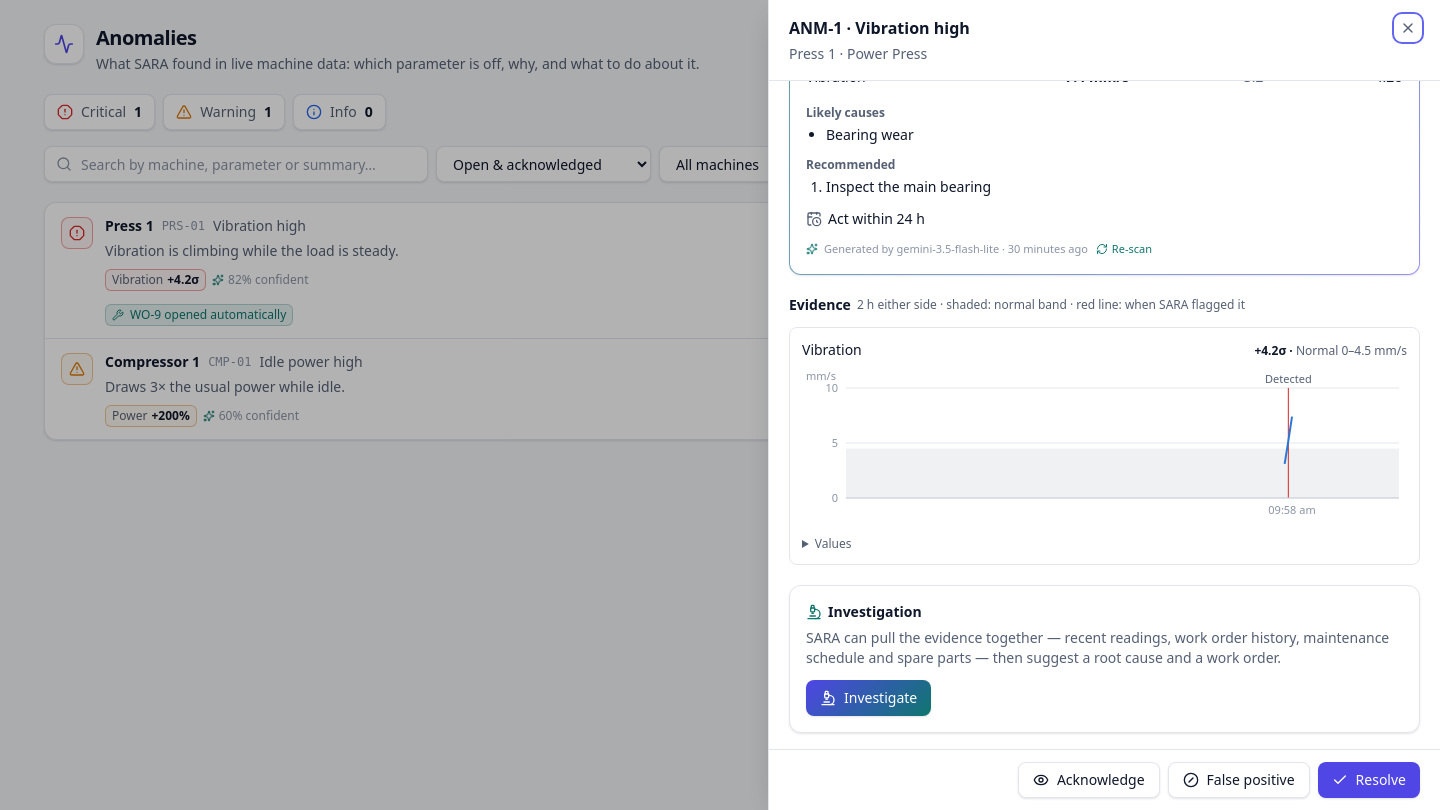
Scenario: Anomalies page › opens the detail sheet: summary, evidence, investigation, work order and state actions
(page scrolled)
Check: the heading "ANM-1 · Vibration high" is shown, box x1=789 y1=16 x2=970 y2=40
Check: the list item "Bearing wear" is shown, box x1=826 y1=125 x2=914 y2=144
Click the button "Investigate" at point(869, 698), box x1=806 y1=680 x2=931 y2=716
(page scrolled)
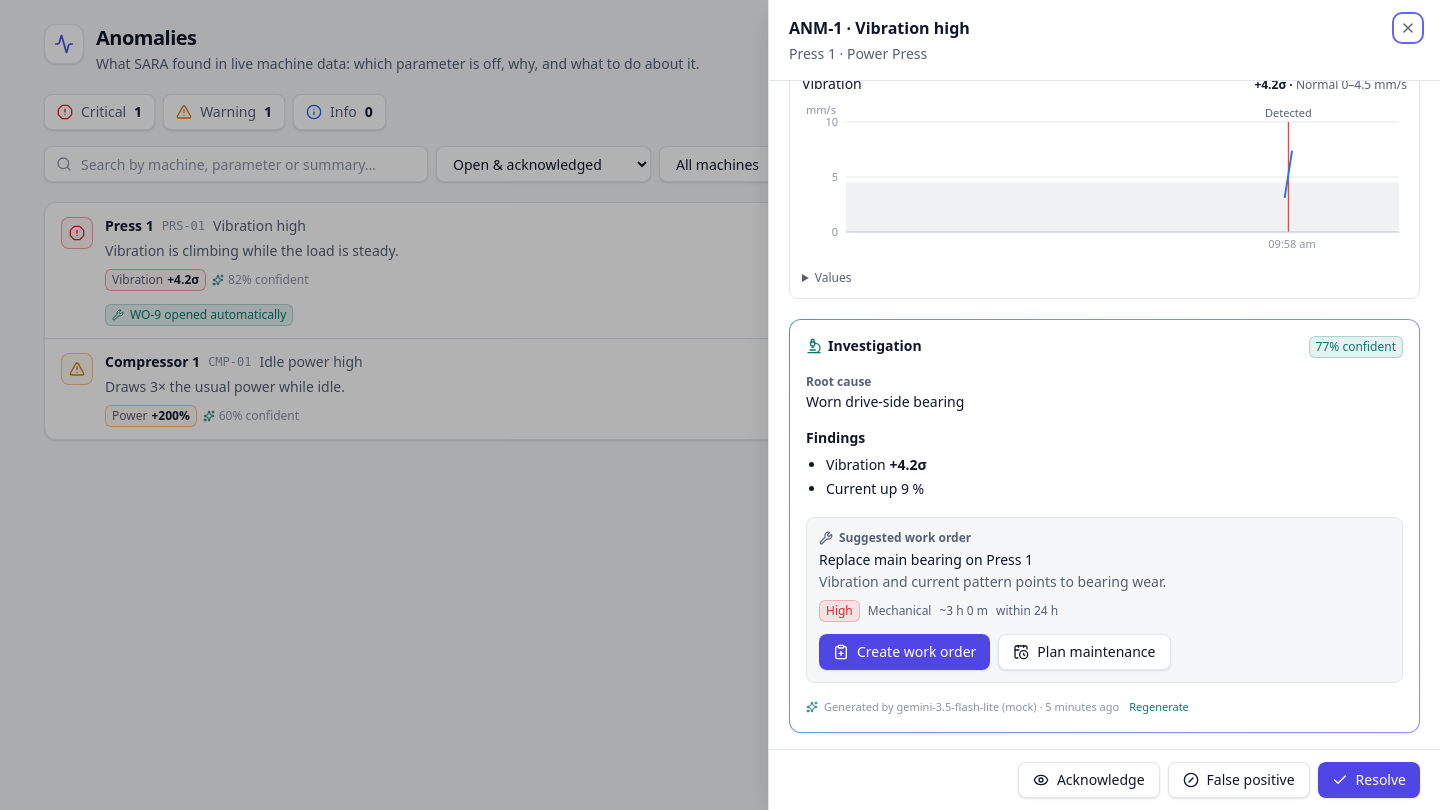
Check: the text "Worn drive-side bearing" is shown, box x1=806 y1=392 x2=964 y2=410
Check: the heading "Findings" is shown, box x1=806 y1=428 x2=865 y2=446
Check: the text "Generated by gemini-3.5-flash-lite (mock) · 5 minutes ago" is shown, box x1=824 y1=699 x2=1119 y2=716
Click the button "Create work order" at point(905, 652), box x1=819 y1=634 x2=990 y2=670
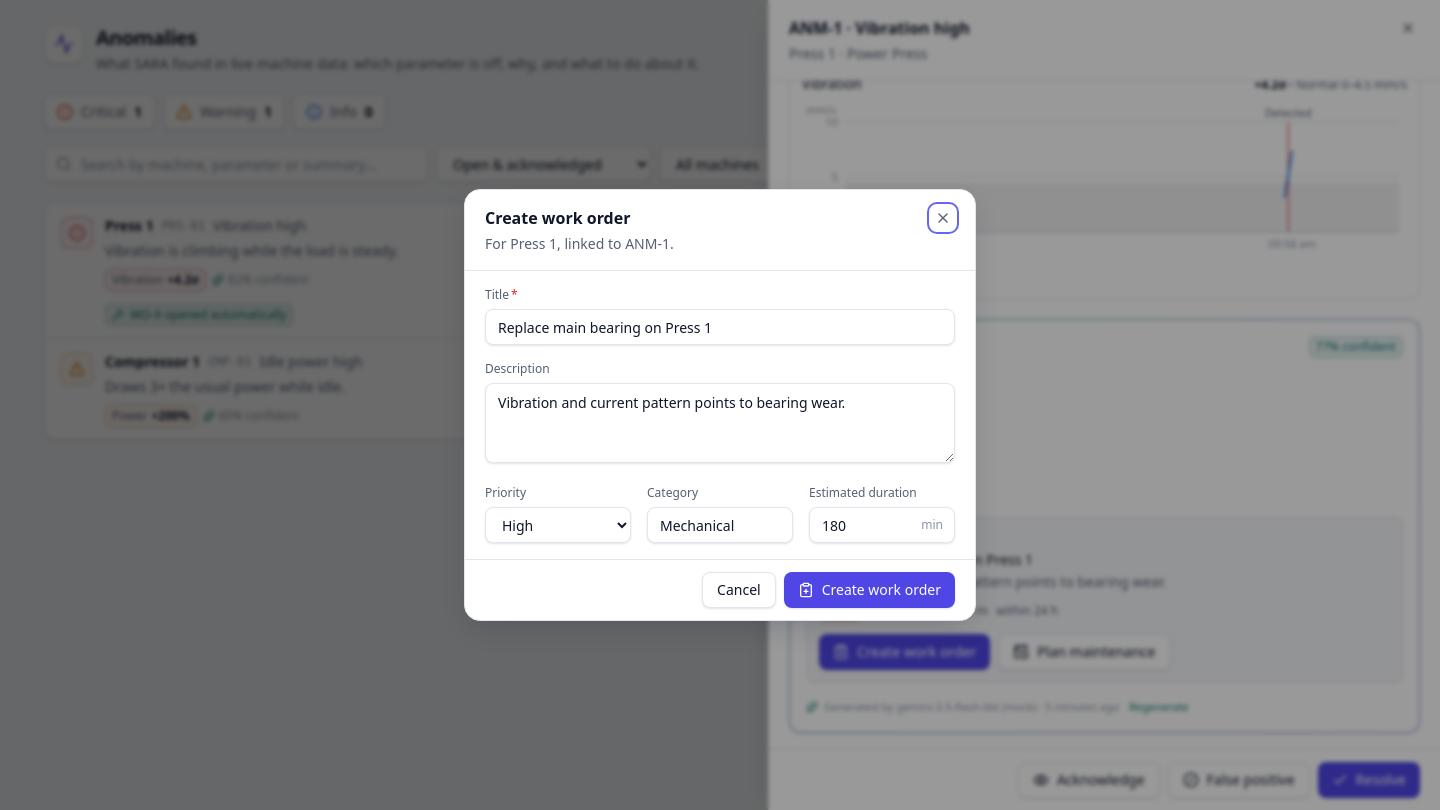
Check: the field labelled "Title*" holds "Replace main bearing on Press 1", box x1=485 y1=309 x2=955 y2=345
Click the button "Create work order" at point(869, 590), box x1=784 y1=572 x2=955 y2=608
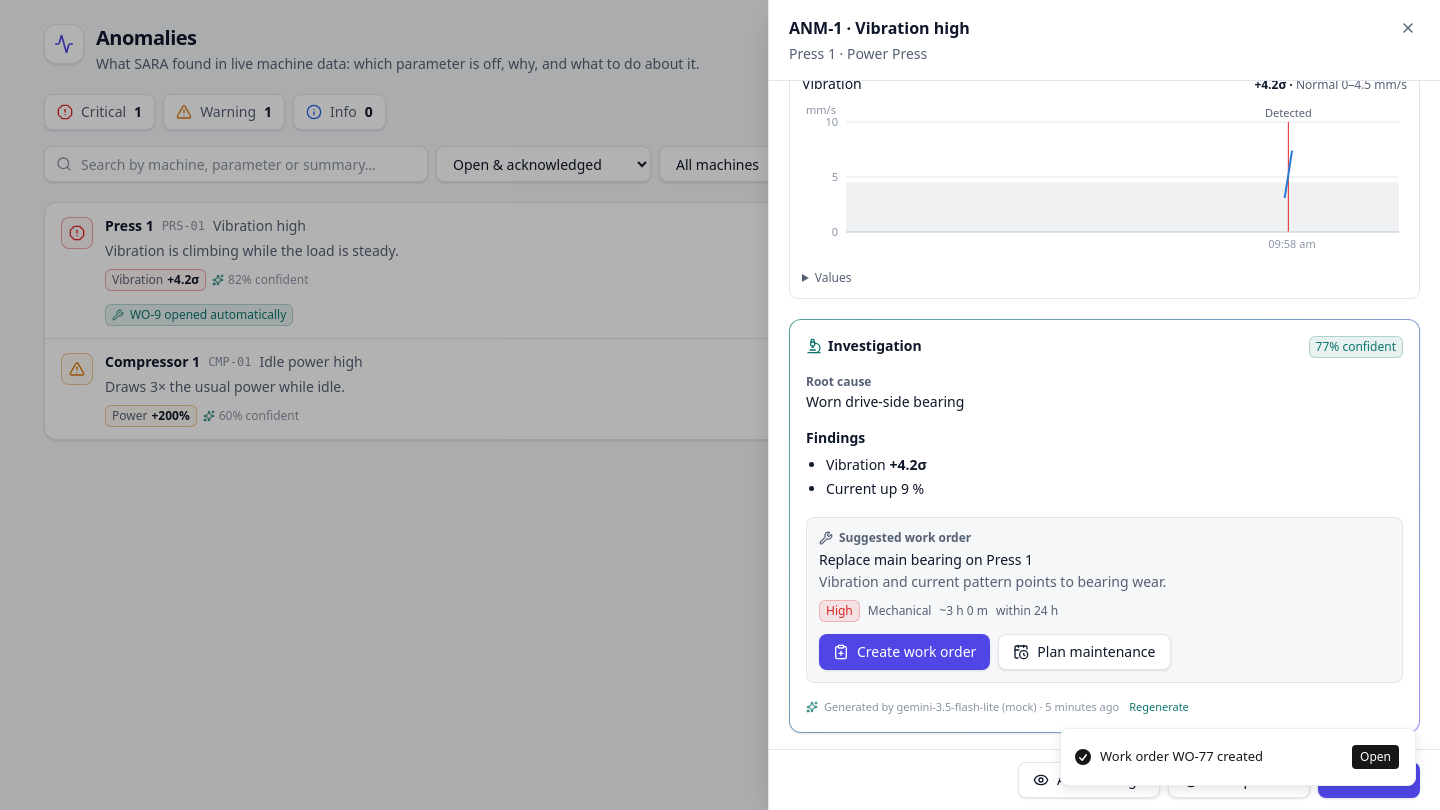
Check: the text "Work order WO-77 created" is shown, box x1=1100 y1=747 x2=1263 y2=767
Click the button "Acknowledge" at point(1089, 780), box x1=1018 y1=762 x2=1160 y2=798
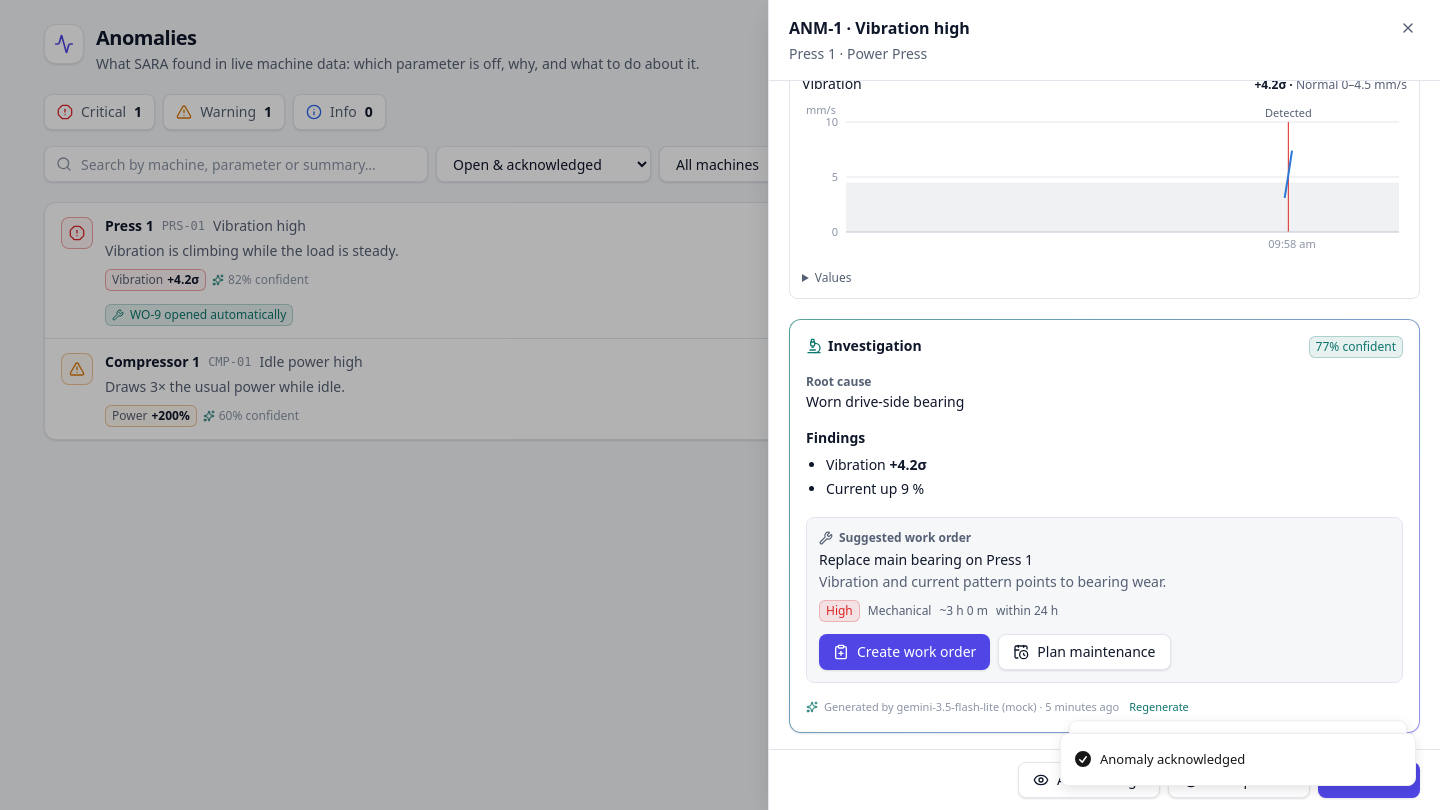
Check: the text "Anomaly acknowledged" is shown, box x1=1100 y1=750 x2=1245 y2=769
